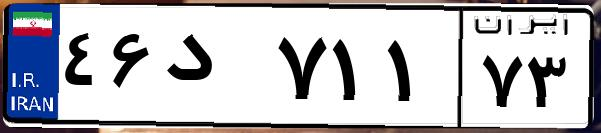1: (385, 28, 445, 110), (330, 28, 385, 110)
3: (525, 38, 570, 115)
4: (57, 26, 110, 100)
6: (110, 28, 158, 98)
7: (270, 28, 330, 110), (475, 38, 525, 113)
د: (158, 20, 270, 120)
